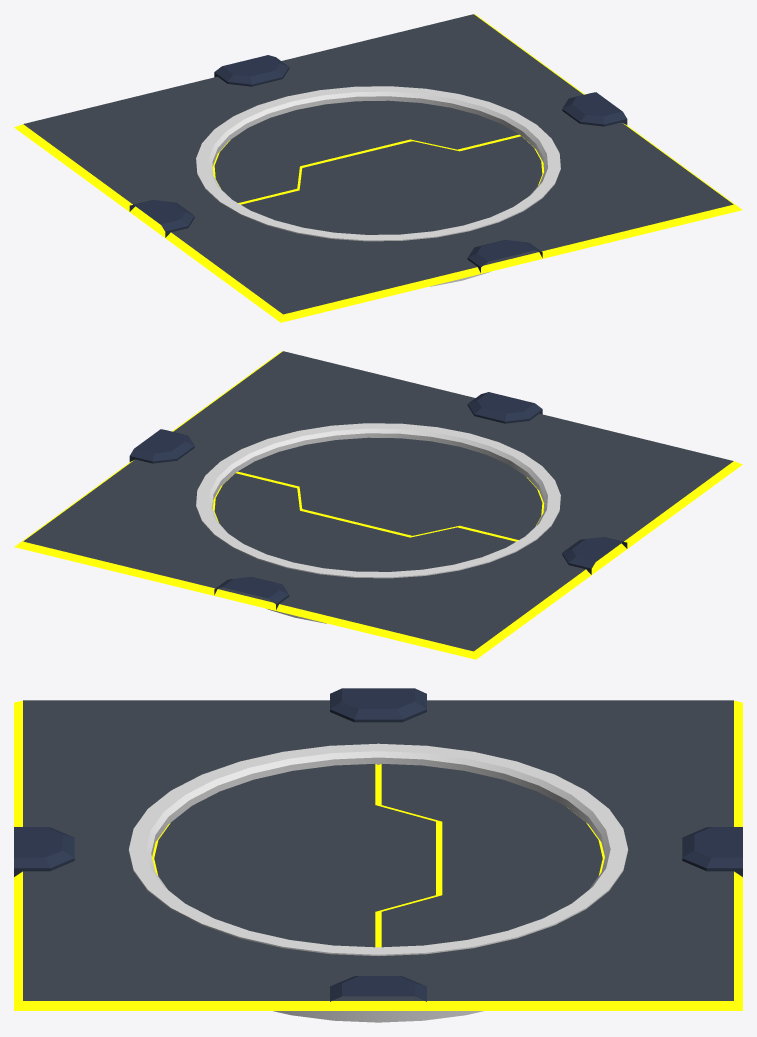
File: SM_GroundTile1.fbx
The picture shows the model from 3 angles, top to bottom: view 1: azimuth 30°, elevation 25°; view 2: azimuth 150°, elevation 25°; view 3: azimuth 270°, elevation 25°; orthographic projection. The views are drawn at different scales.
Parts seen in each view (by area): view 1: TileGround1_Base.012, TileGround1_Door2.012, TileGround1_Door1.012; view 2: TileGround1_Base.012, TileGround1_Door2.012, TileGround1_Door1.012; view 3: TileGround1_Base.012, TileGround1_Door2.012, TileGround1_Door1.012, TileGround1_Symbol.012.
Boxes of the visible parts, x1,y1,x2,y2 form: TileGround1_Base.012: (14,14,742,322); TileGround1_Door2.012: (241,136,543,234); TileGround1_Door1.012: (212,100,521,204); TileGround1_Base.012: (14,351,742,659); TileGround1_Door2.012: (235,437,544,541); TileGround1_Door1.012: (213,473,515,571); TileGround1_Base.012: (14,688,742,1010); TileGround1_Door2.012: (152,764,439,947); TileGround1_Door1.012: (378,764,604,947); TileGround1_Symbol.012: (273,1011,483,1022).
Bounding box in the file's own units: 6 × 6 × 0.7613.
